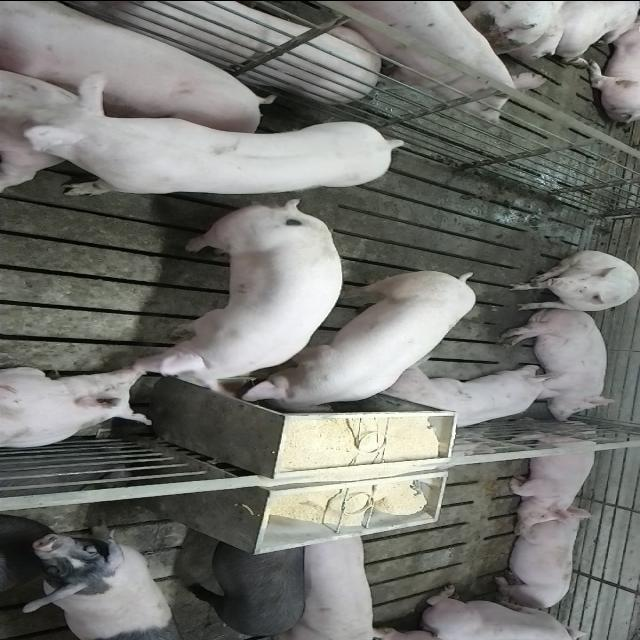Feeding: (132, 198, 344, 398), (236, 264, 478, 411)
Lateral_lying: (0, 0, 272, 129), (498, 306, 620, 422)
Sitting: (504, 250, 638, 312)
Standing: (10, 94, 408, 200), (294, 0, 544, 122), (22, 526, 176, 638), (176, 530, 310, 638), (276, 524, 376, 636)
Sternal_lying: (0, 358, 158, 448), (382, 366, 566, 431), (490, 508, 590, 612), (412, 584, 602, 638), (506, 425, 604, 523)
